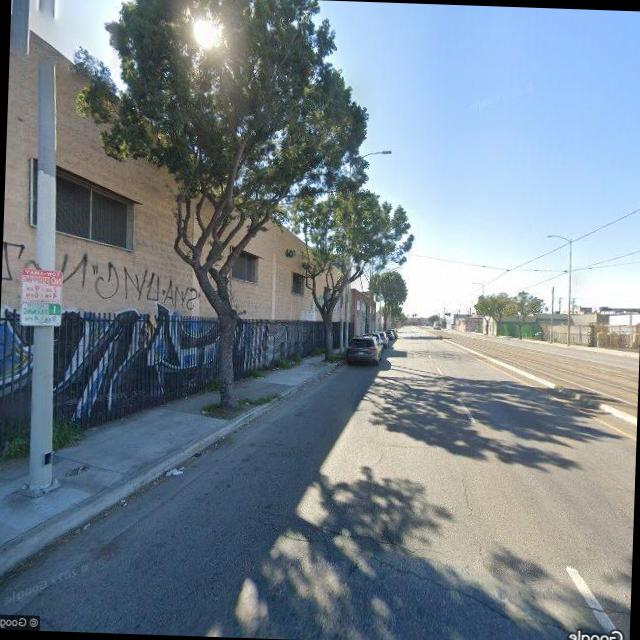crack: (358, 550, 511, 626), (295, 516, 448, 554), (457, 463, 478, 518)
